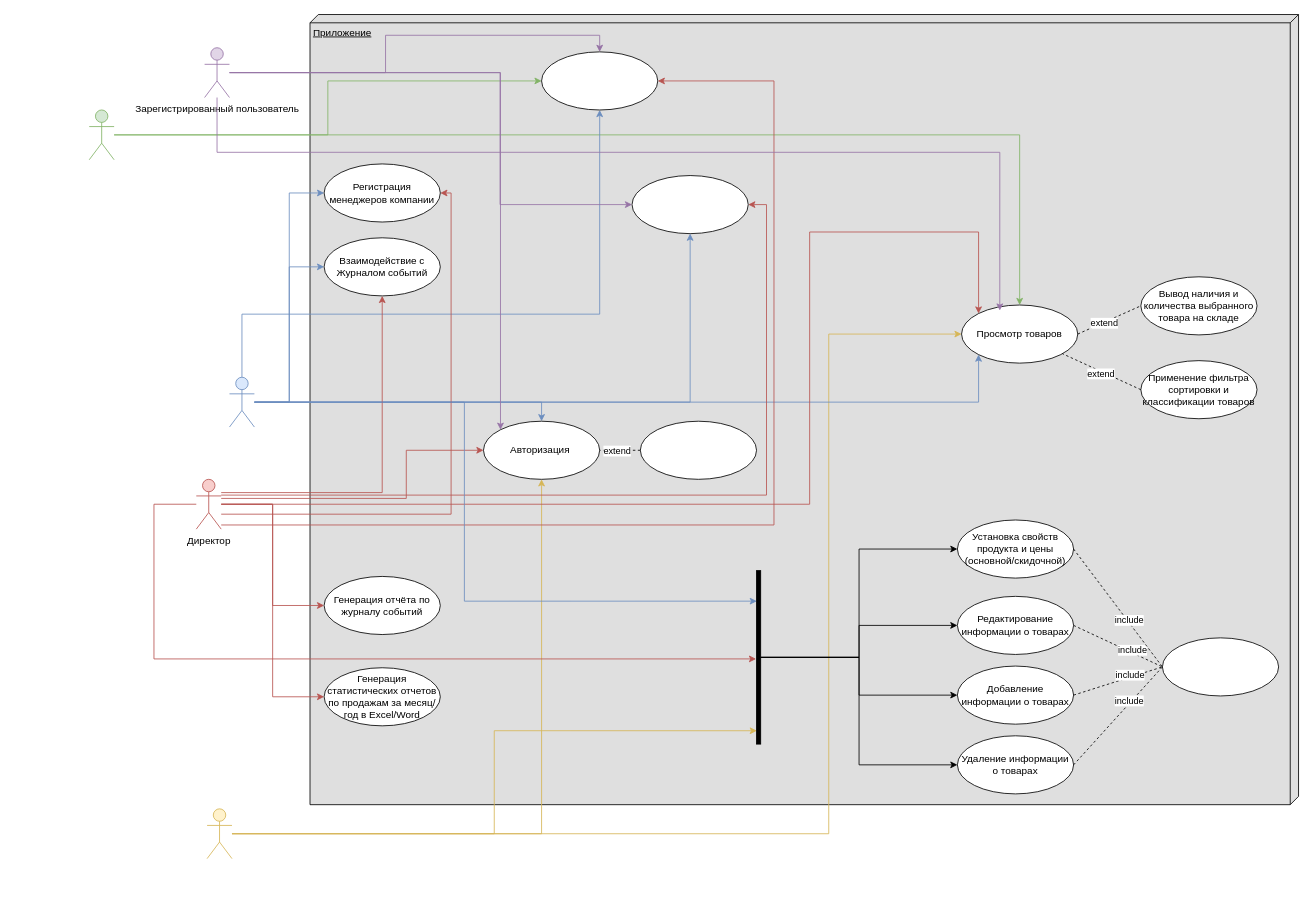
The diagram is 1313 pixels wide and 903 high, and some of its shapes have lost their labels. The box of each missing label's shape, as (x1, y1, x2, y2) in pixels:
Журнализация изменений: (1162, 637, 1279, 696)
Менеджер: (206, 808, 232, 859)
Незарегистрированный пользователь: (88, 109, 114, 160)
Отправка авторизационных данных на электронную почту: (640, 420, 757, 479)
Оформление заказа: (631, 175, 748, 234)
Системный администратор: (229, 376, 254, 427)
Формирование корзины: (541, 51, 658, 110)
